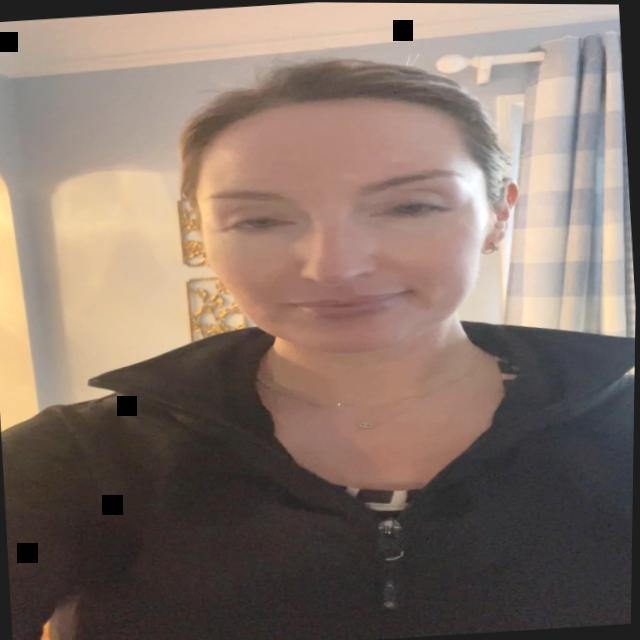NO-Mask: (168, 70, 526, 388)
